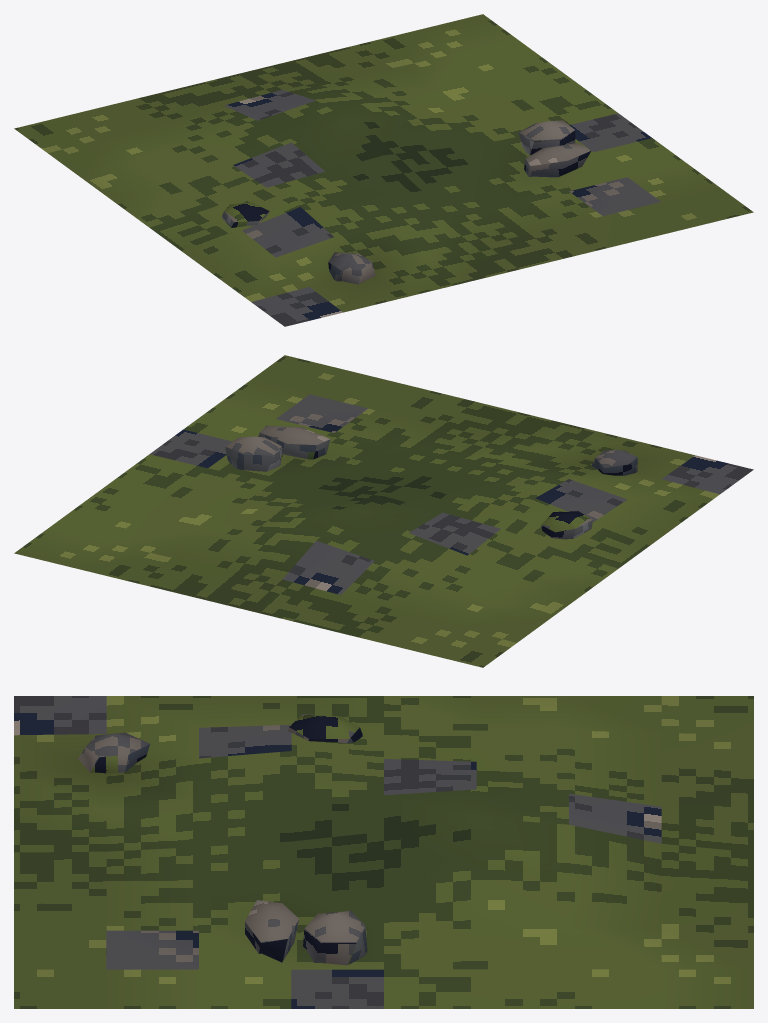
File: lake.shore__land.glb
The picture shows the model from 3 angles, top to bottom: view 1: azimuth 30°, elevation 25°; view 2: azimuth 150°, elevation 25°; view 3: azimuth 270°, elevation 25°; orthographic projection. The views are drawn at different scales.
Parts seen in each view (by area): view 1: kit_shell_bank, kit_stones; view 2: kit_shell_bank, kit_stones; view 3: kit_shell_bank, kit_stones.
Part boxes in pixels (x1=…): kit_shell_bank: x1=14, y1=14, x2=753, y2=326; kit_stones: x1=221, y1=120, x2=591, y2=284; kit_shell_bank: x1=14, y1=355, x2=753, y2=667; kit_stones: x1=225, y1=425, x2=637, y2=539; kit_shell_bank: x1=14, y1=696, x2=753, y2=1008; kit_stones: x1=78, y1=714, x2=367, y2=965.
Size of the model in its own units: 4 by 0.2557 by 4.
Materials: 3 (3 with a texture image).
